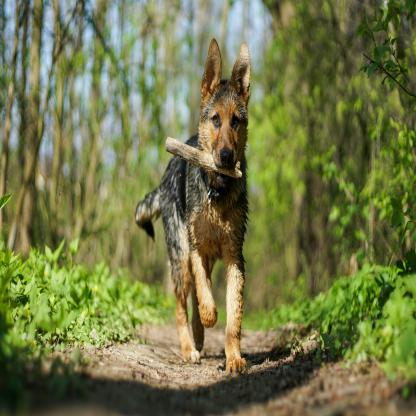dog: (129, 37, 253, 381)
